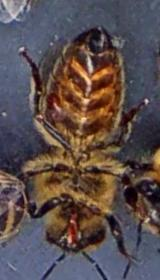varroa_mite: (38, 81, 72, 122)
